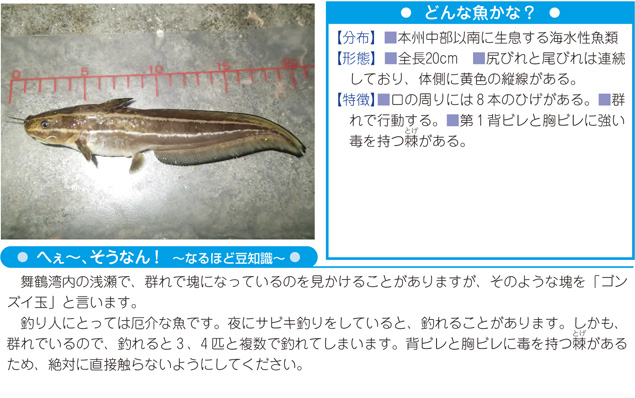gonzui: (6, 96, 309, 171)
